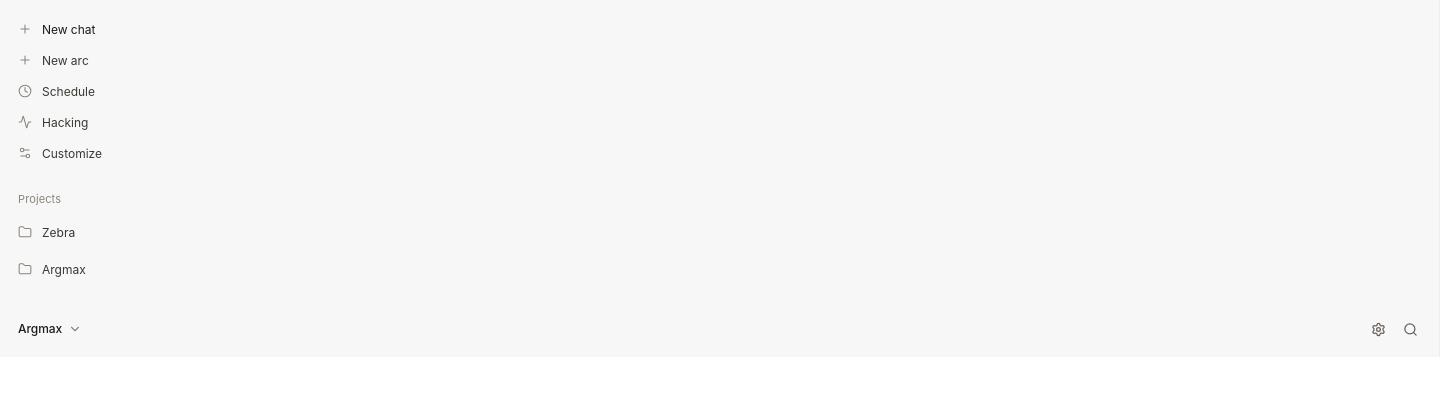
it: Sidebar — date (sessions) view mode › toggles a project's sessions by clicking the project row background
This screenshot has width=1440, height=404.
Check: the button "Zebra task today" is not shown
Click the element "Zebra" at coordinates (716, 232), box [8,217,1425,247]
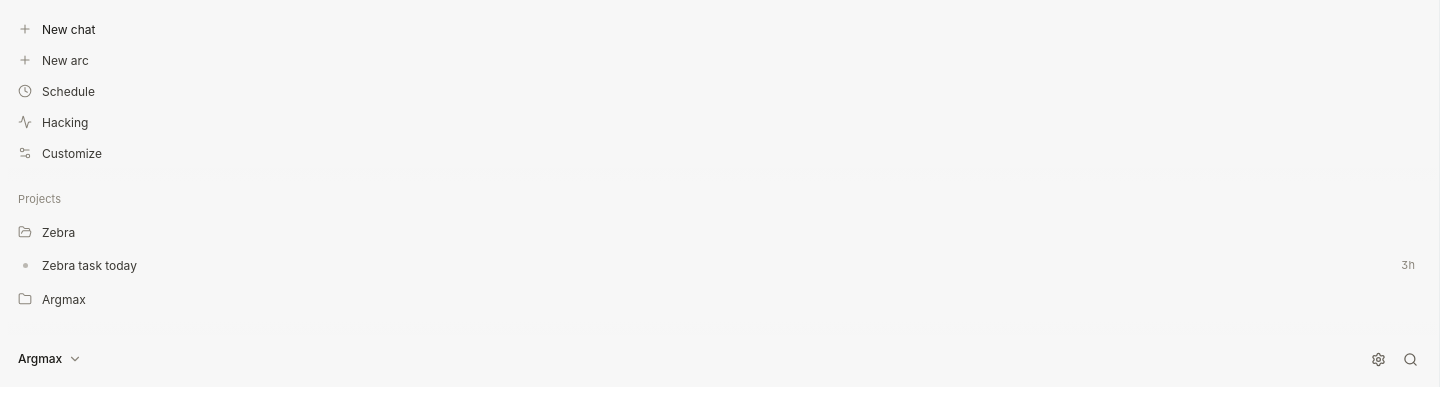
Check: the button "Zebra task today 3h" is shown, box [8,250,1425,280]
Click the element "Zebra" at coordinates (716, 232), box [8,217,1425,247]
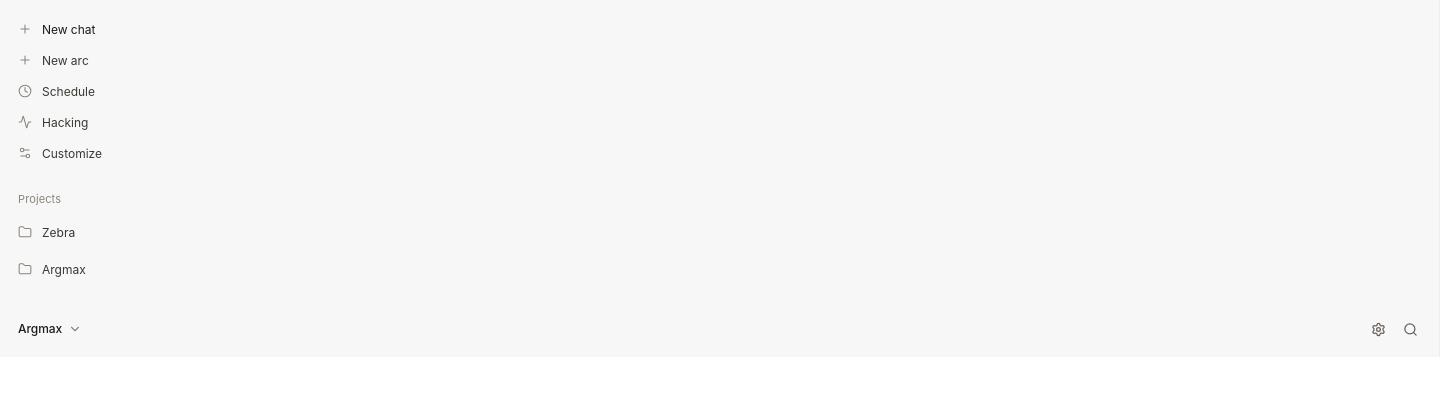
Check: the button "Zebra task today" is gone
